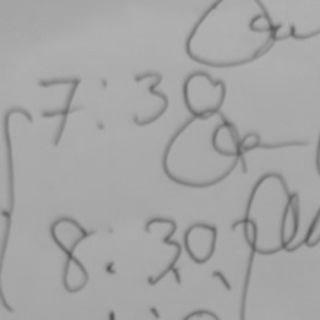.: (104, 258, 118, 277)
3: (143, 209, 183, 289), (129, 66, 170, 125)
7: (36, 69, 85, 144)
8: (46, 209, 92, 294)
